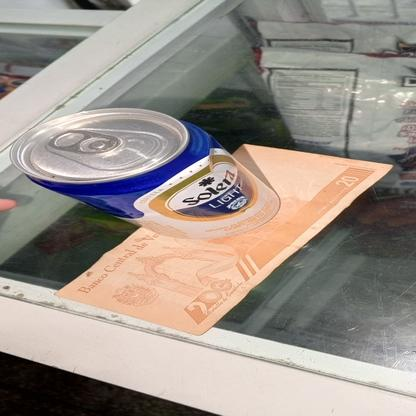vef_back: (54, 142, 393, 336)
